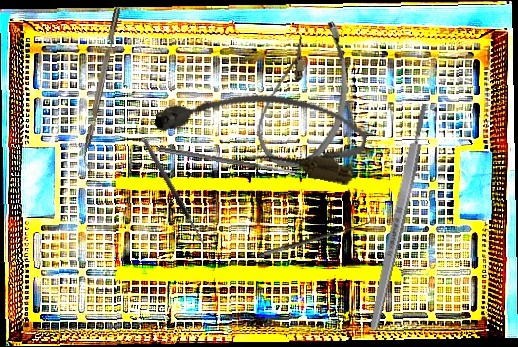Cannula: (150, 69, 372, 188), (251, 12, 359, 175)
Chopper: (77, 6, 129, 173)
Hook Surgical: (141, 135, 216, 253), (255, 212, 373, 259)
Scalpel Handle: (366, 102, 432, 331)
Surgical Spoon: (157, 146, 303, 178)
